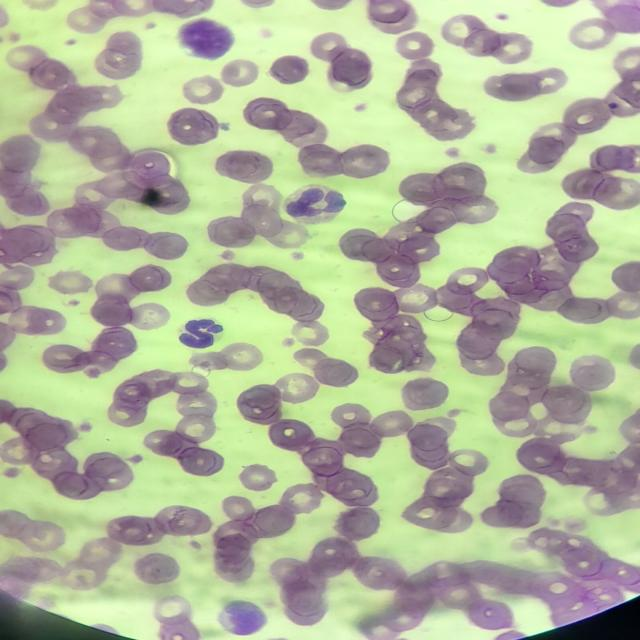Neutrofilo: (219, 600, 263, 633), (180, 318, 224, 348)
